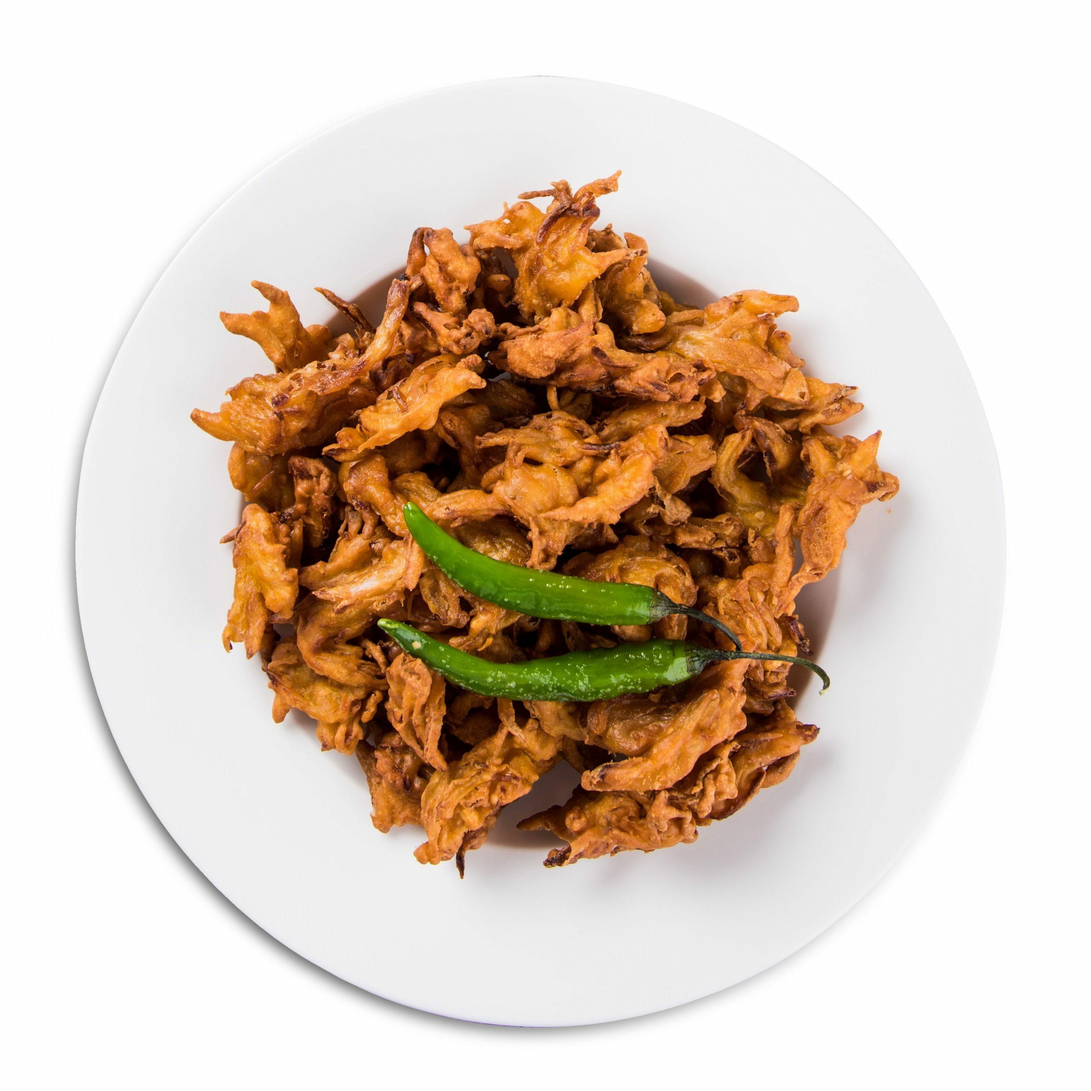OnionPakoda: (179, 170, 914, 871)
